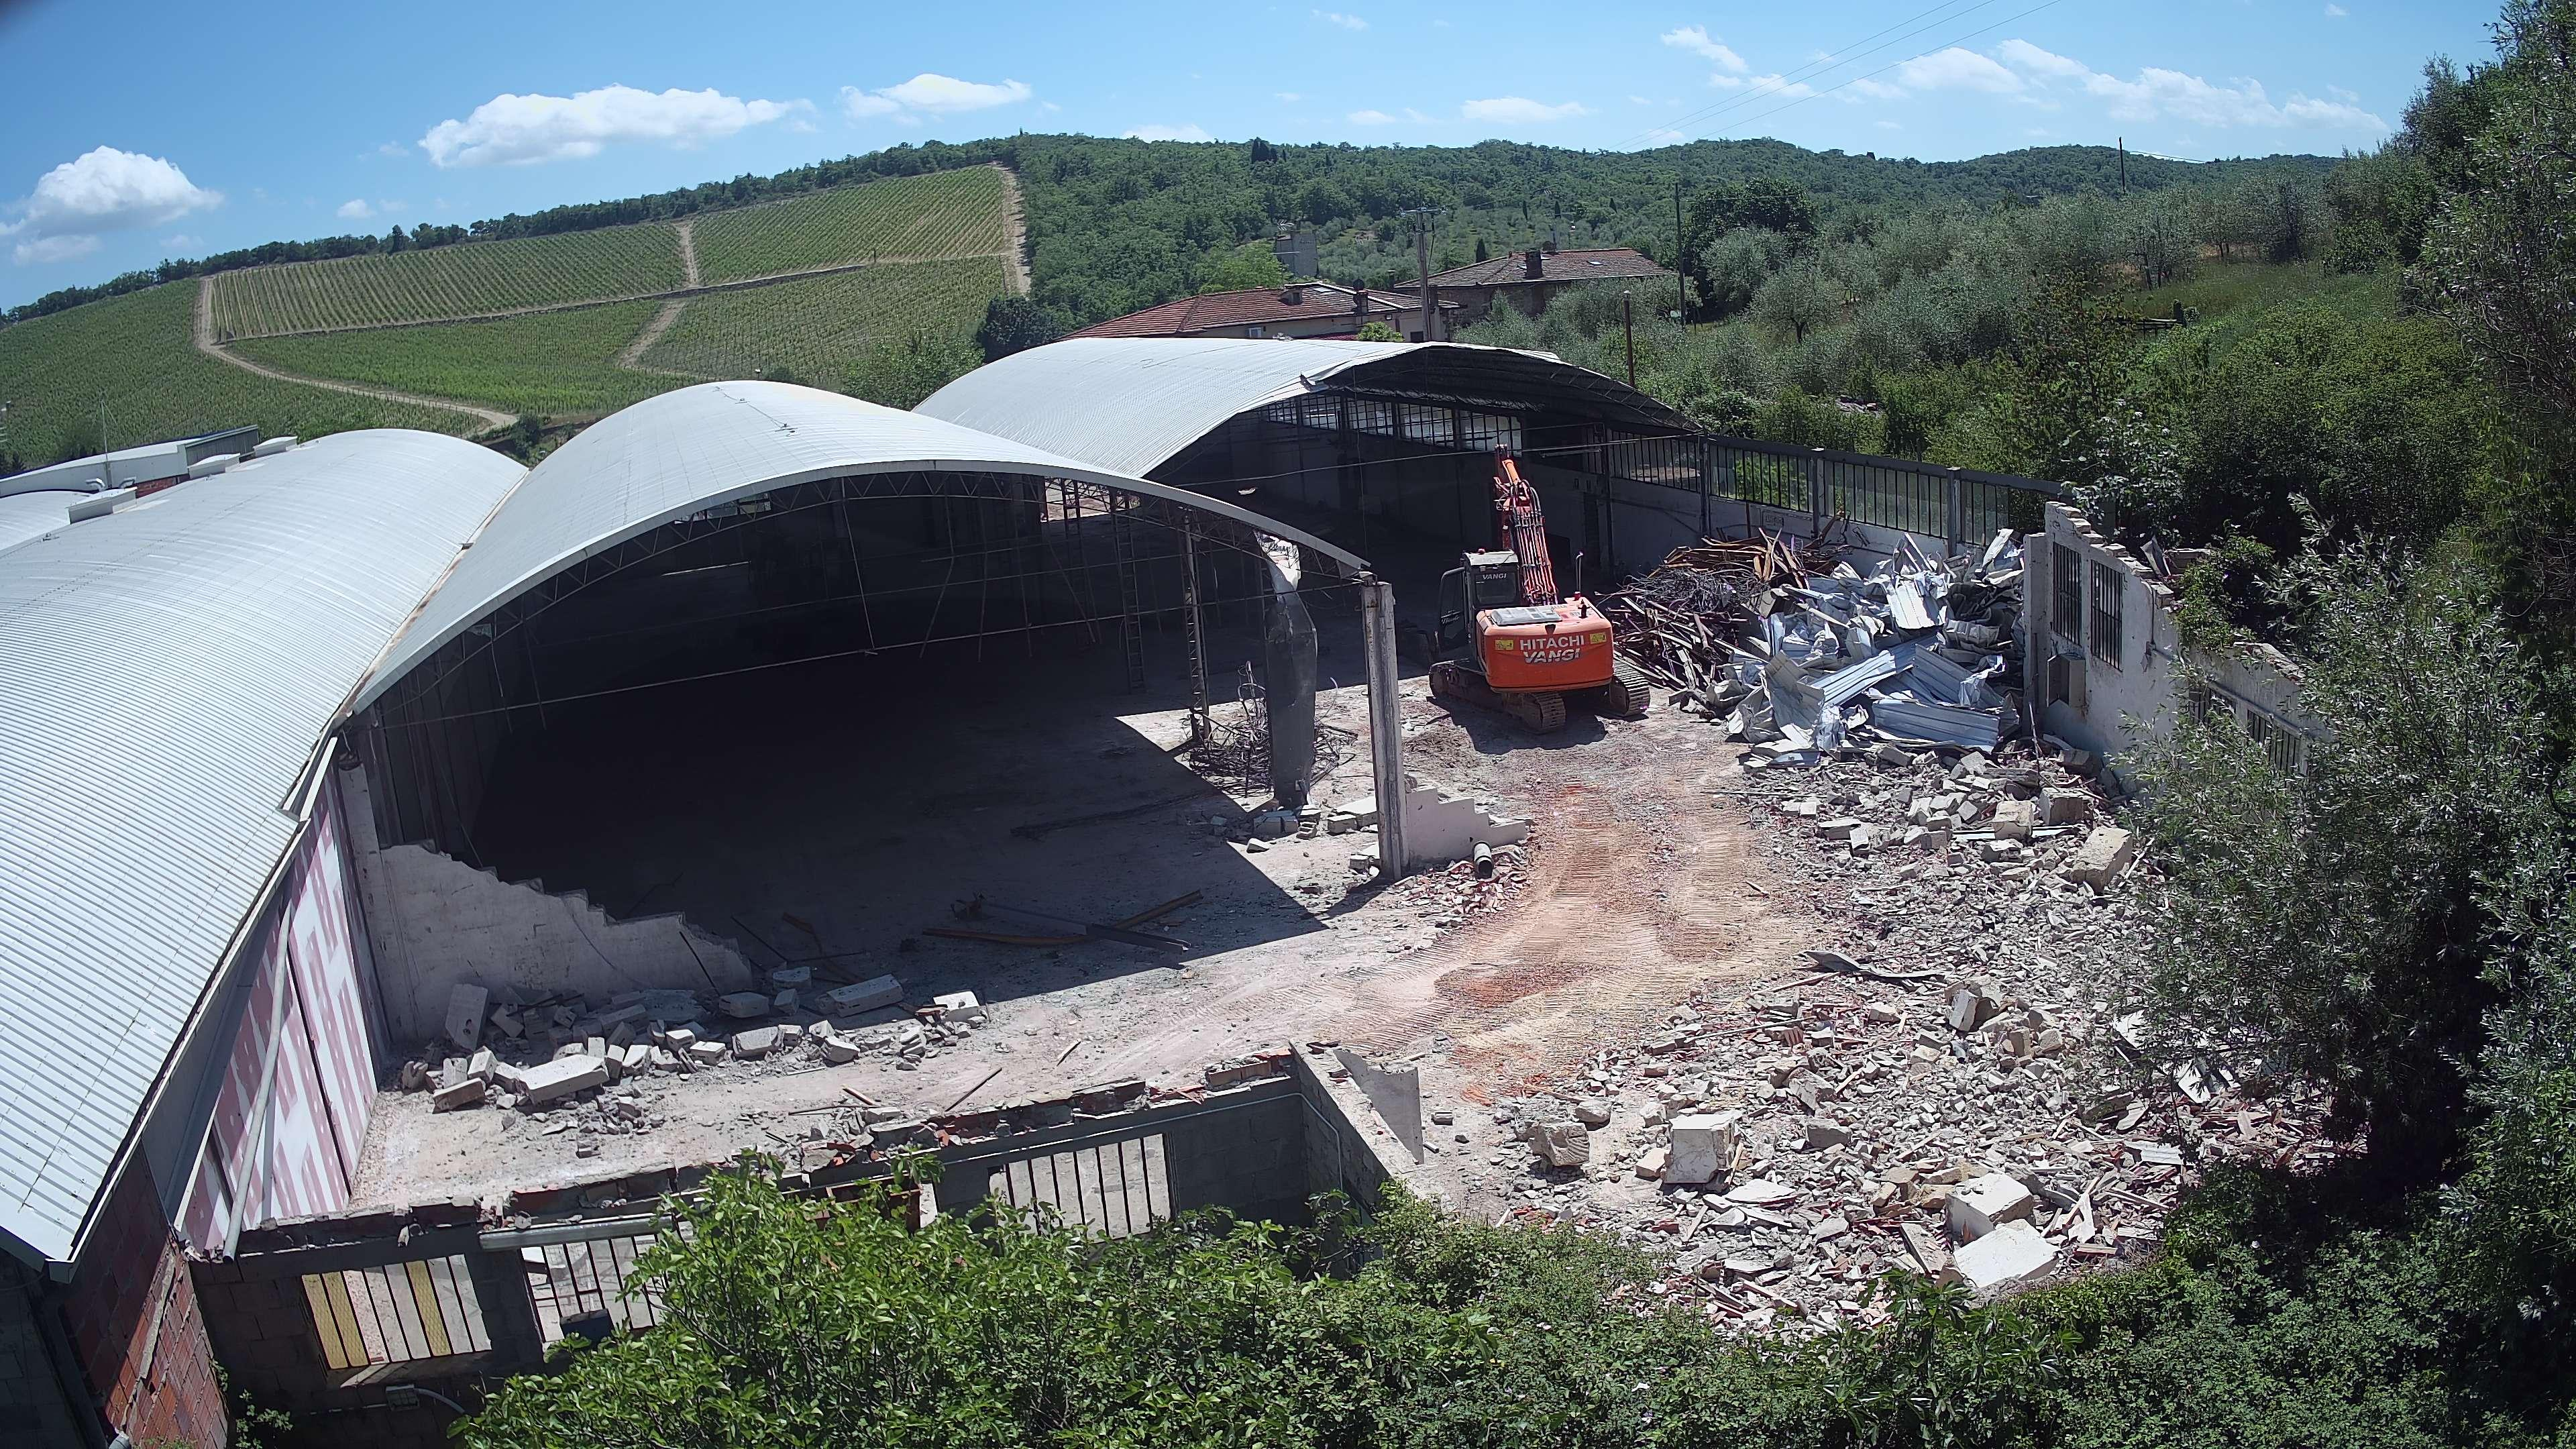excavator: (1430, 442, 1652, 734)
